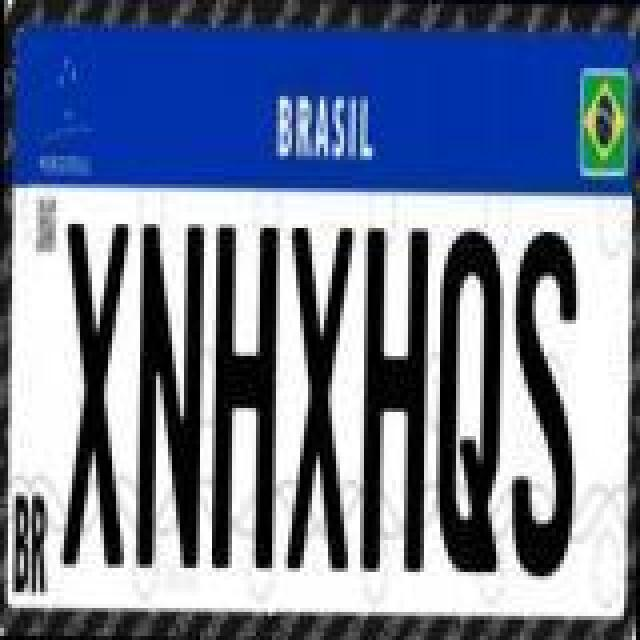H: (208, 220, 280, 572), (356, 224, 428, 576)
N: (132, 220, 204, 572)
Q: (436, 224, 508, 576)
S: (508, 222, 580, 578)
X: (60, 216, 132, 568), (284, 226, 356, 574)
